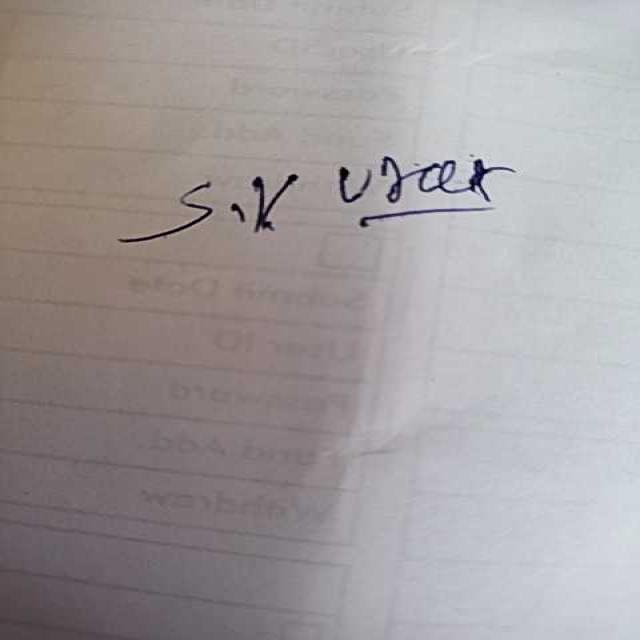signature: (94, 133, 544, 270)
